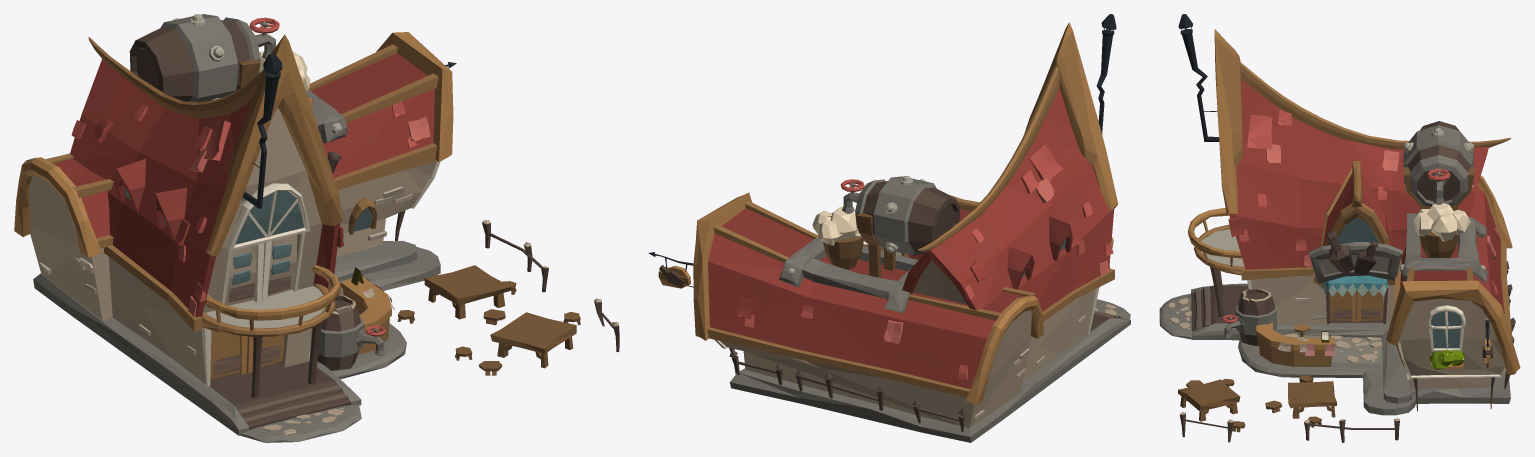
The model's file is chengjian_jiuguan3.FBX.
The picture shows the model from 3 angles, left to right: view 1: azimuth 30°, elevation 25°; view 2: azimuth 150°, elevation 25°; view 3: azimuth 270°, elevation 25°; orthographic projection. The views are drawn at different scales.
Parts seen in each view (by area): view 1: chengjian_jiuguan3, chengjian_jiuguan3-1, chengjian_jiuguan3-2; view 2: chengjian_jiuguan3, chengjian_jiuguan3-2; view 3: chengjian_jiuguan3, chengjian_jiuguan3-2, chengjian_jiuguan3-1.
Boxes of the visible parts, left/top/right/bottom form: chengjian_jiuguan3: left=14, top=14, right=619, bottom=442; chengjian_jiuguan3-1: left=235, top=190, right=373, bottom=244; chengjian_jiuguan3-2: left=259, top=51, right=341, bottom=173; chengjian_jiuguan3: left=648, top=14, right=1130, bottom=442; chengjian_jiuguan3-2: left=812, top=206, right=901, bottom=255; chengjian_jiuguan3: left=1159, top=14, right=1520, bottom=442; chengjian_jiuguan3-2: left=1309, top=203, right=1470, bottom=283; chengjian_jiuguan3-1: left=1431, top=311, right=1461, bottom=348.
Size of the model in its own units: 181 by 150 by 167.
